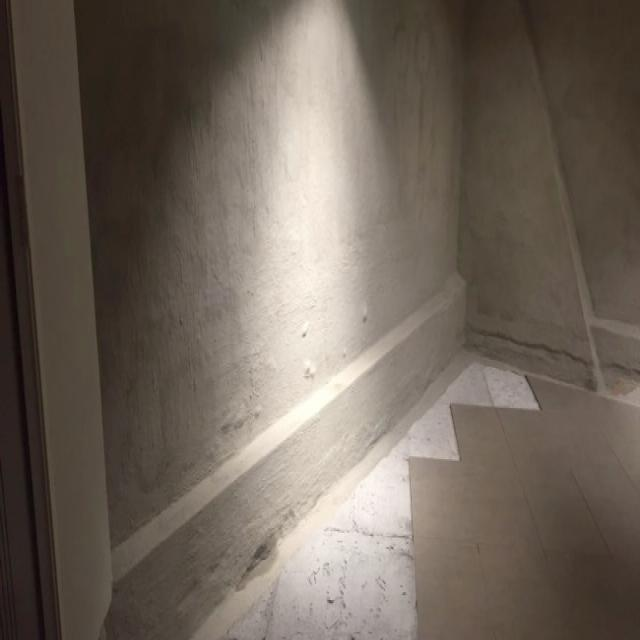Water_Leakage: (115, 252, 401, 498), (225, 518, 289, 604)
